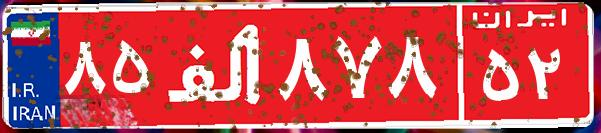2: (525, 38, 570, 115)
5: (475, 38, 525, 113), (110, 28, 158, 105)
7: (330, 28, 385, 110)
8: (385, 28, 445, 110), (273, 28, 330, 110), (57, 26, 110, 107)
الف: (158, 15, 273, 115)
